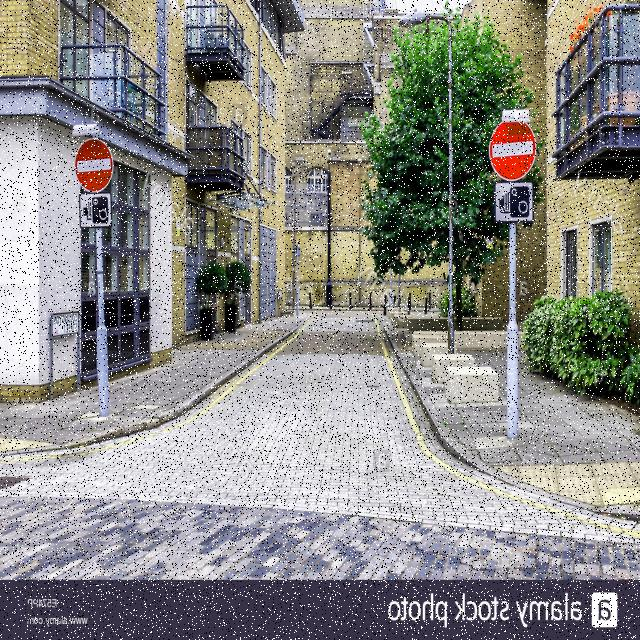no entry: (488, 119, 537, 182), (76, 138, 114, 192)
